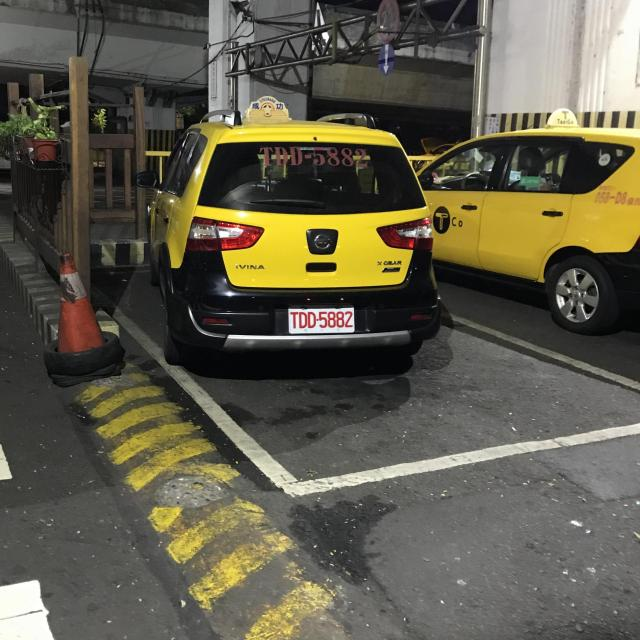WR: (287, 304, 356, 334)
